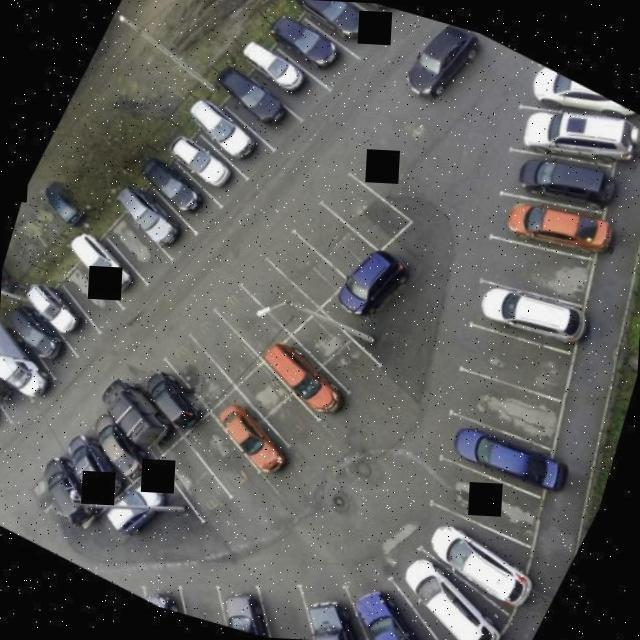space-empty: (428, 340, 589, 472), (458, 202, 608, 334), (440, 300, 589, 422), (416, 446, 560, 554), (272, 194, 392, 292), (168, 406, 276, 504), (223, 358, 333, 452), (224, 250, 334, 340), (245, 225, 358, 312), (312, 168, 413, 260), (166, 306, 274, 390), (286, 308, 392, 392), (198, 280, 302, 363), (238, 571, 352, 640), (154, 335, 245, 415), (53, 254, 131, 334), (102, 206, 180, 286), (172, 568, 260, 632)
space-occupied: (444, 246, 606, 382), (470, 155, 630, 292), (418, 389, 581, 522), (489, 66, 640, 206), (394, 482, 550, 616), (484, 114, 634, 248), (357, 541, 528, 640), (317, 555, 477, 640), (249, 336, 366, 430), (513, 60, 640, 146), (274, 564, 415, 640), (64, 403, 170, 499), (197, 393, 301, 487), (17, 450, 115, 546), (146, 436, 248, 528), (118, 349, 218, 438), (96, 374, 190, 464), (204, 560, 308, 640), (41, 430, 138, 514), (2, 308, 90, 384), (198, 100, 276, 182), (125, 183, 200, 264), (171, 126, 247, 205), (76, 233, 154, 309), (145, 161, 224, 236), (32, 282, 106, 362), (277, 17, 353, 92), (222, 74, 297, 148), (302, 0, 381, 63), (0, 338, 62, 412), (248, 48, 317, 114), (133, 570, 215, 620), (0, 360, 36, 427), (325, 0, 401, 27), (0, 375, 21, 447)
